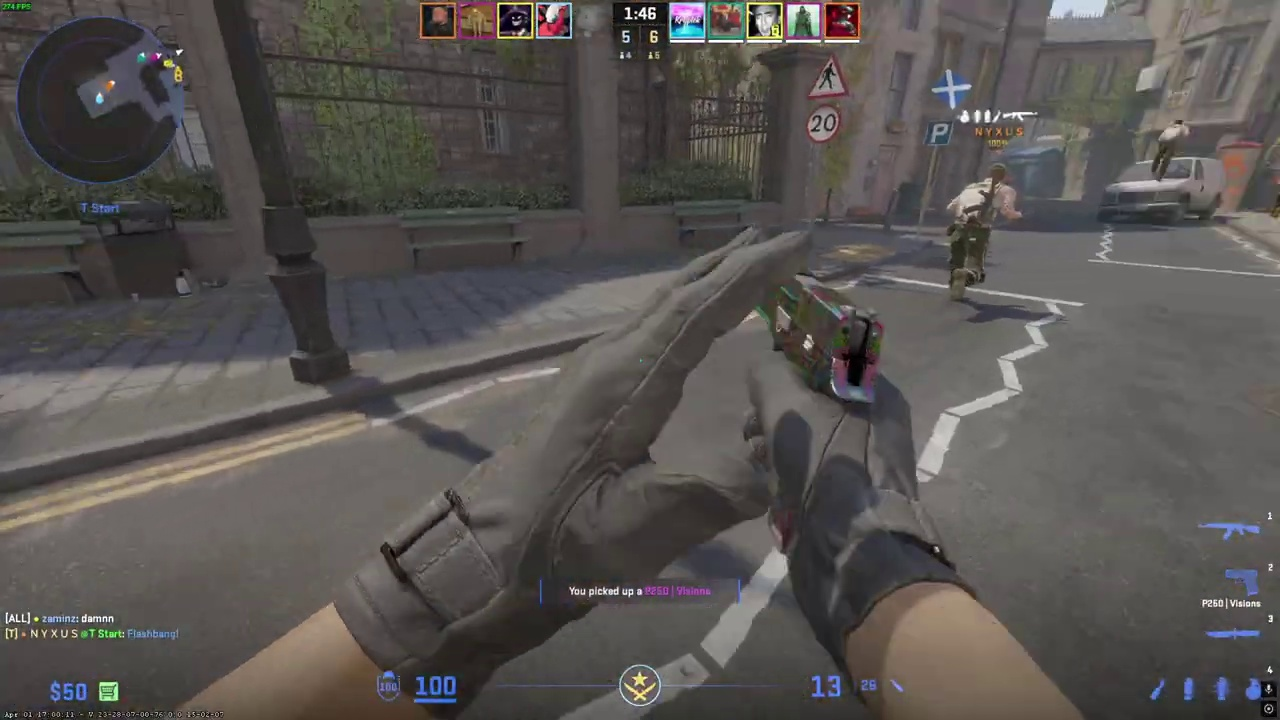Terrorist: (946, 163, 1016, 303), (1153, 119, 1186, 182)
